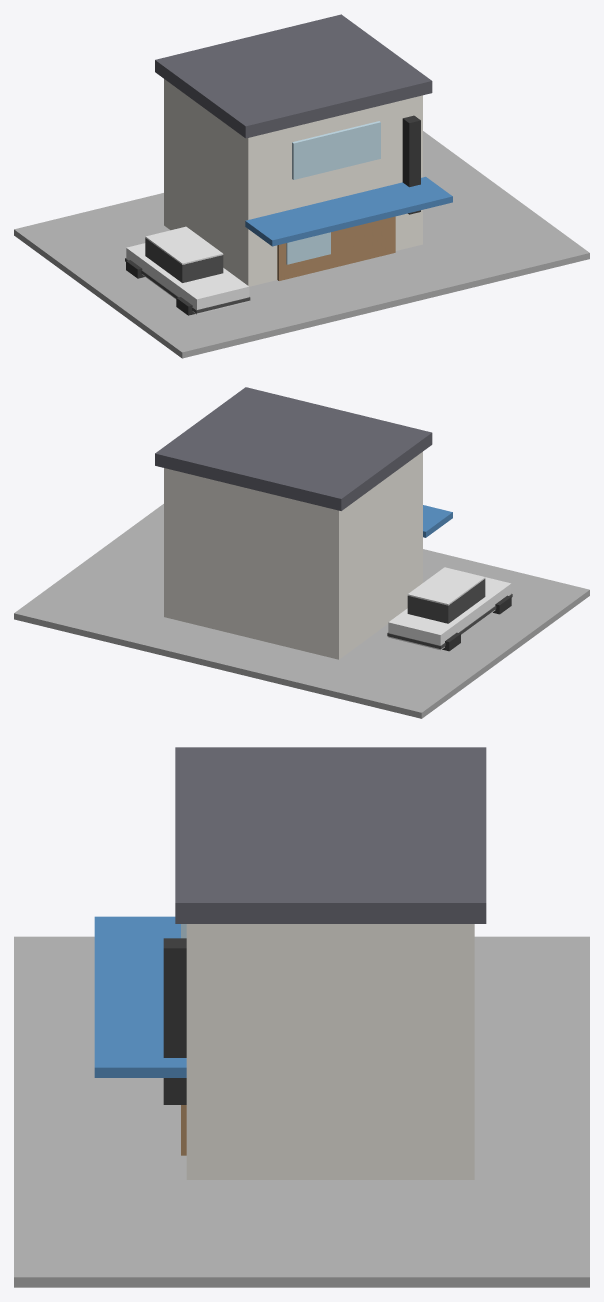
File: tofu_shop.glb
3 views of the same model, one above another, from view 1: azimuth 30°, elevation 25°; view 2: azimuth 150°, elevation 25°; view 3: azimuth 270°, elevation 25° (orthographic). The views are drawn at different scales.
Parts seen in each view (by area): view 1: TofuShop; view 2: TofuShop; view 3: TofuShop.
Boxes of the visible parts, x1,y1,x2,y2 form: TofuShop: [14, 14, 589, 358]; TofuShop: [14, 387, 589, 718]; TofuShop: [14, 747, 589, 1287].
Size of the model in its own units: 14 by 5.6 by 10.
